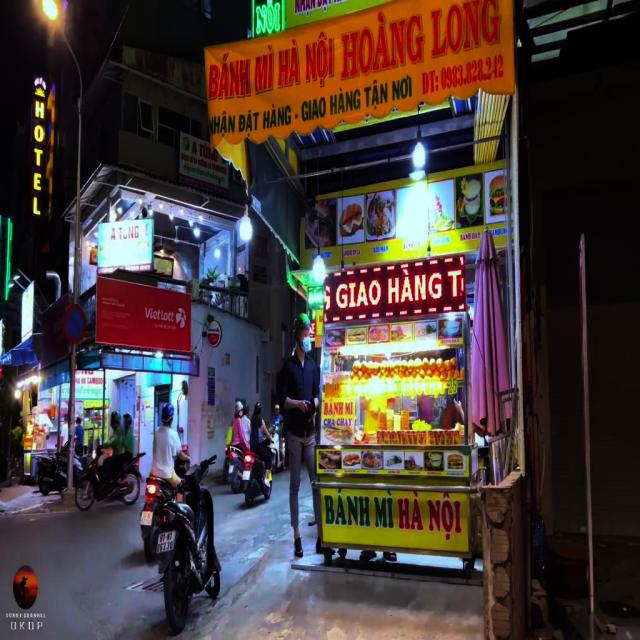cam_do_xe: (63, 304, 85, 344)
